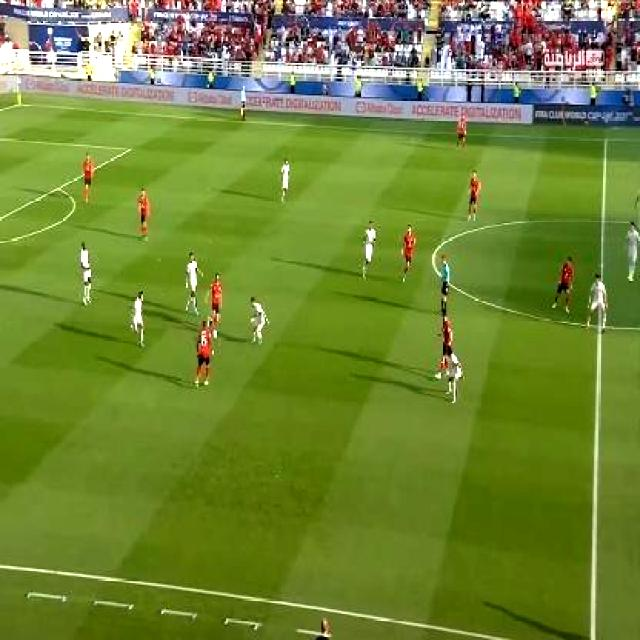bigarea_top_inner: (122, 140, 136, 157)
corner: (11, 95, 26, 108)
halfcircle_bottom: (591, 312, 611, 337)
halfcircle_top: (594, 208, 611, 229)
midline_top_intersection: (598, 128, 612, 148)
top_arc_area_intersection: (49, 178, 65, 196)
